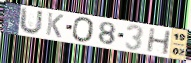3: (124, 24, 146, 53)
8: (97, 22, 118, 46)
H: (146, 28, 172, 56)
K: (44, 11, 65, 39)
O: (72, 17, 96, 44)
U: (18, 6, 44, 35)
